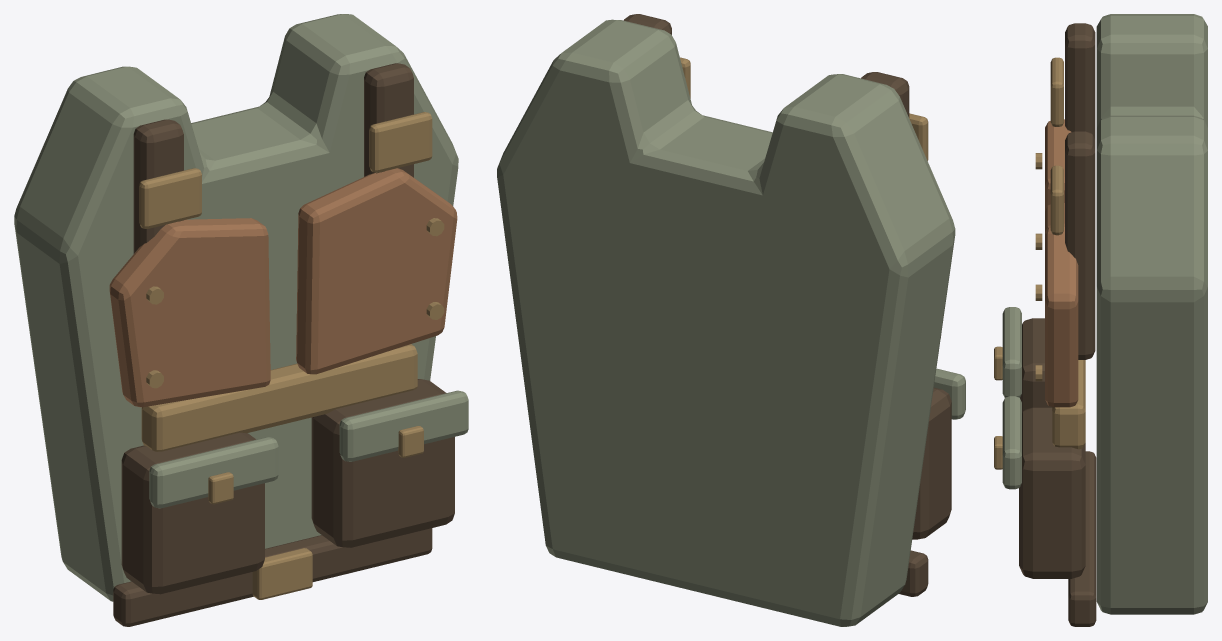
The model's file is psy_field_vest.glb.
The picture shows the model from 3 angles, left to right: view 1: azimuth 30°, elevation 25°; view 2: azimuth 150°, elevation 25°; view 3: azimuth 270°, elevation 25°; orthographic projection. The views are drawn at different scales.
Visible parts, largest first — view 1: psy_field_vest_Olive_Khaki_Canvas, psy_field_vest_Oxide_Armor_Panels, psy_field_vest_Dark_Brown_Leather, psy_field_vest_Worn_Bronze_Gear; view 2: psy_field_vest_Olive_Khaki_Canvas, psy_field_vest_Dark_Brown_Leather, psy_field_vest_Worn_Bronze_Gear; view 3: psy_field_vest_Olive_Khaki_Canvas, psy_field_vest_Dark_Brown_Leather, psy_field_vest_Oxide_Armor_Panels, psy_field_vest_Worn_Bronze_Gear.
Part boxes in pixels (x1,y1,x2,y2): psy_field_vest_Olive_Khaki_Canvas: (14,14,468,601); psy_field_vest_Oxide_Armor_Panels: (109,168,457,407); psy_field_vest_Dark_Brown_Leather: (113,63,454,626); psy_field_vest_Worn_Bronze_Gear: (139,112,444,599); psy_field_vest_Olive_Khaki_Canvas: (497,19,965,626); psy_field_vest_Dark_Brown_Leather: (623,14,951,596); psy_field_vest_Worn_Bronze_Gear: (680,57,928,160); psy_field_vest_Olive_Khaki_Canvas: (1002,14,1207,614); psy_field_vest_Dark_Brown_Leather: (1019,23,1096,626); psy_field_vest_Oxide_Armor_Panels: (1045,119,1078,407); psy_field_vest_Worn_Bronze_Gear: (994,57,1085,469).
Bounding box in the file's own units: 0.7929 × 0.955 × 0.385.
